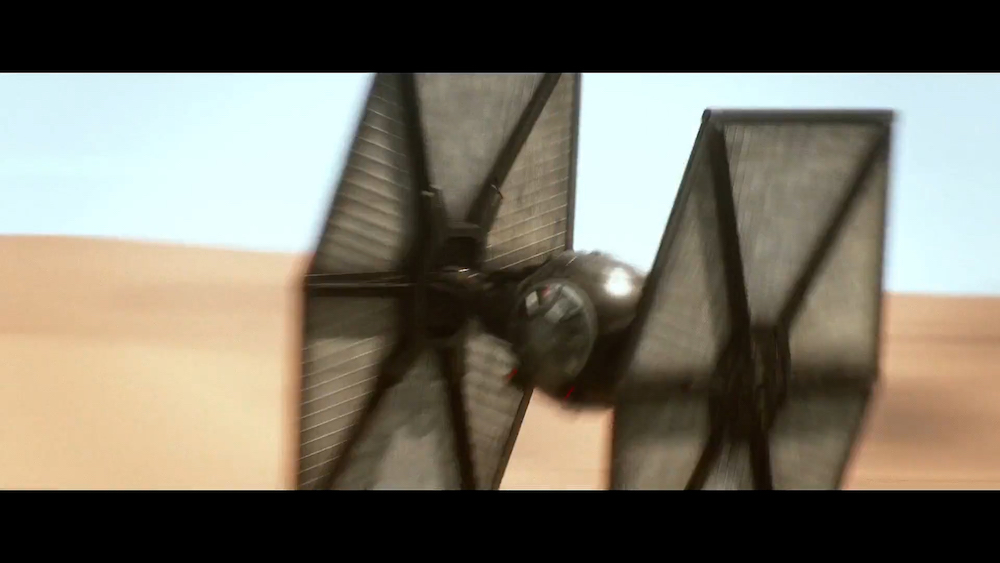Tie Fighter: (295, 72, 894, 488)
